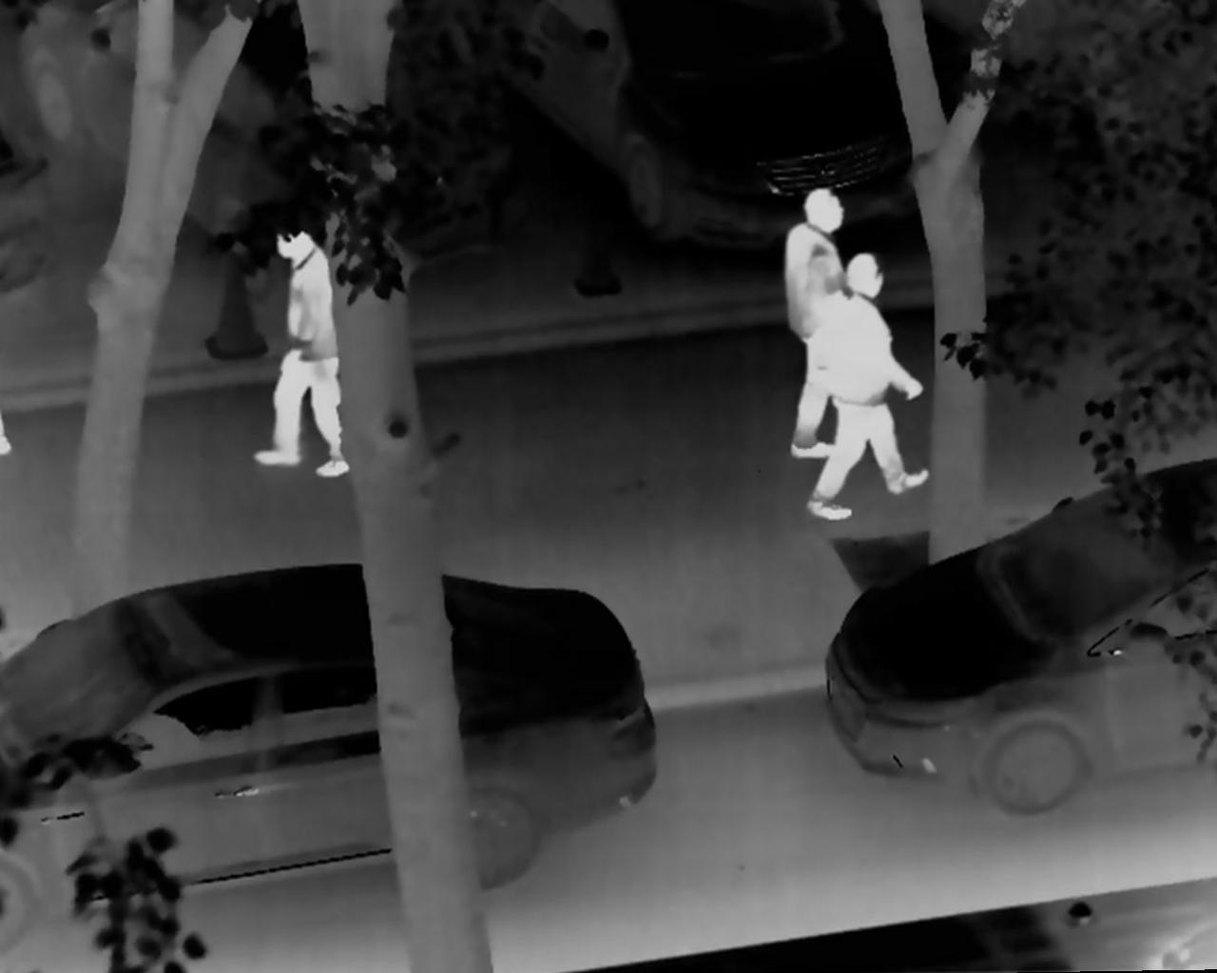person: (805, 245, 936, 526), (248, 212, 361, 481), (766, 189, 872, 461)
